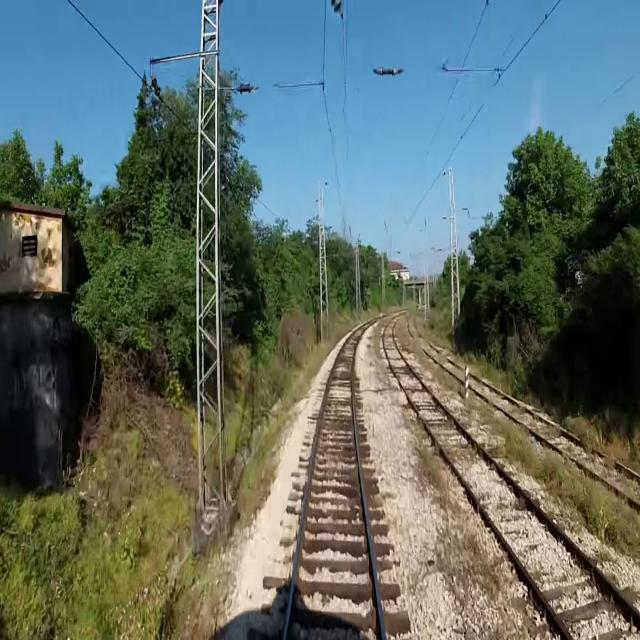rail-track: (384, 319, 640, 639), (287, 327, 382, 639), (469, 376, 640, 500), (409, 313, 464, 379)
